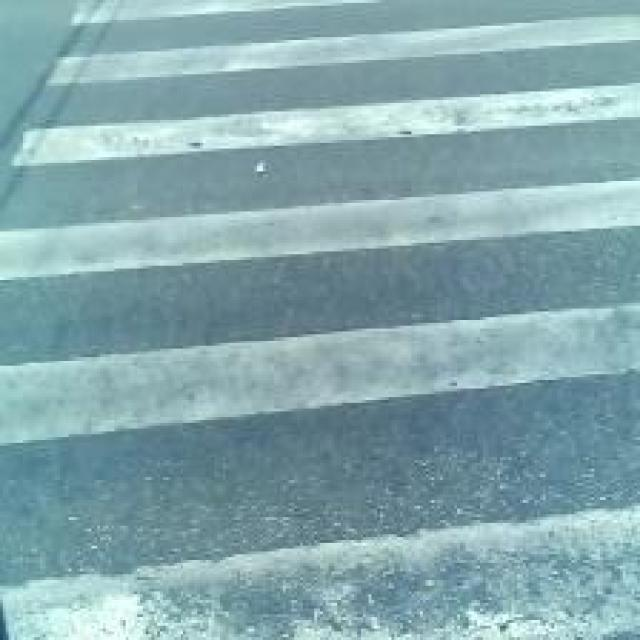zebra: (77, 0, 640, 629)
